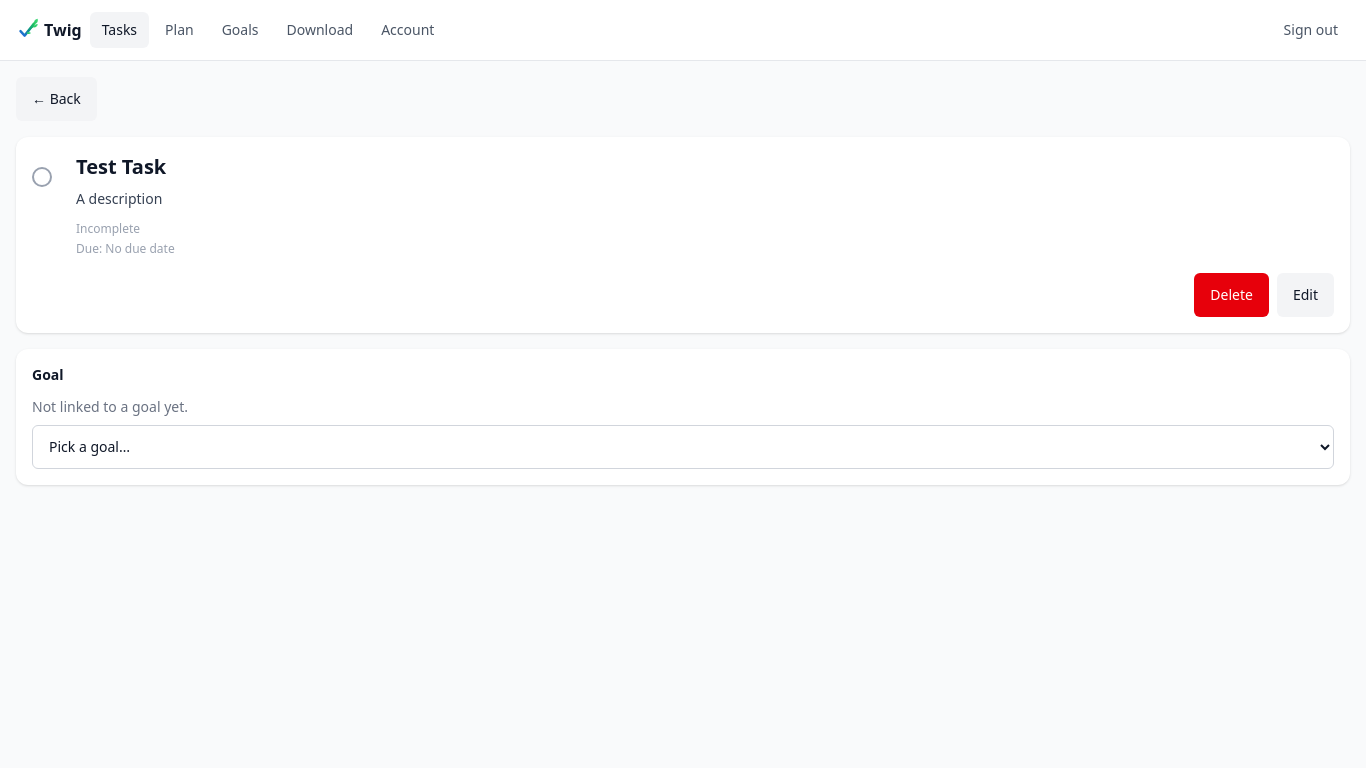
Scenario: TaskDetailPage — goal error mapping (US4) › other codes show the generic connectivity message
The width and height of the screenshot is (1366, 768).
Select "Ship it" in the dropdown named "goal" at (683, 446), box [32, 424, 1334, 468]
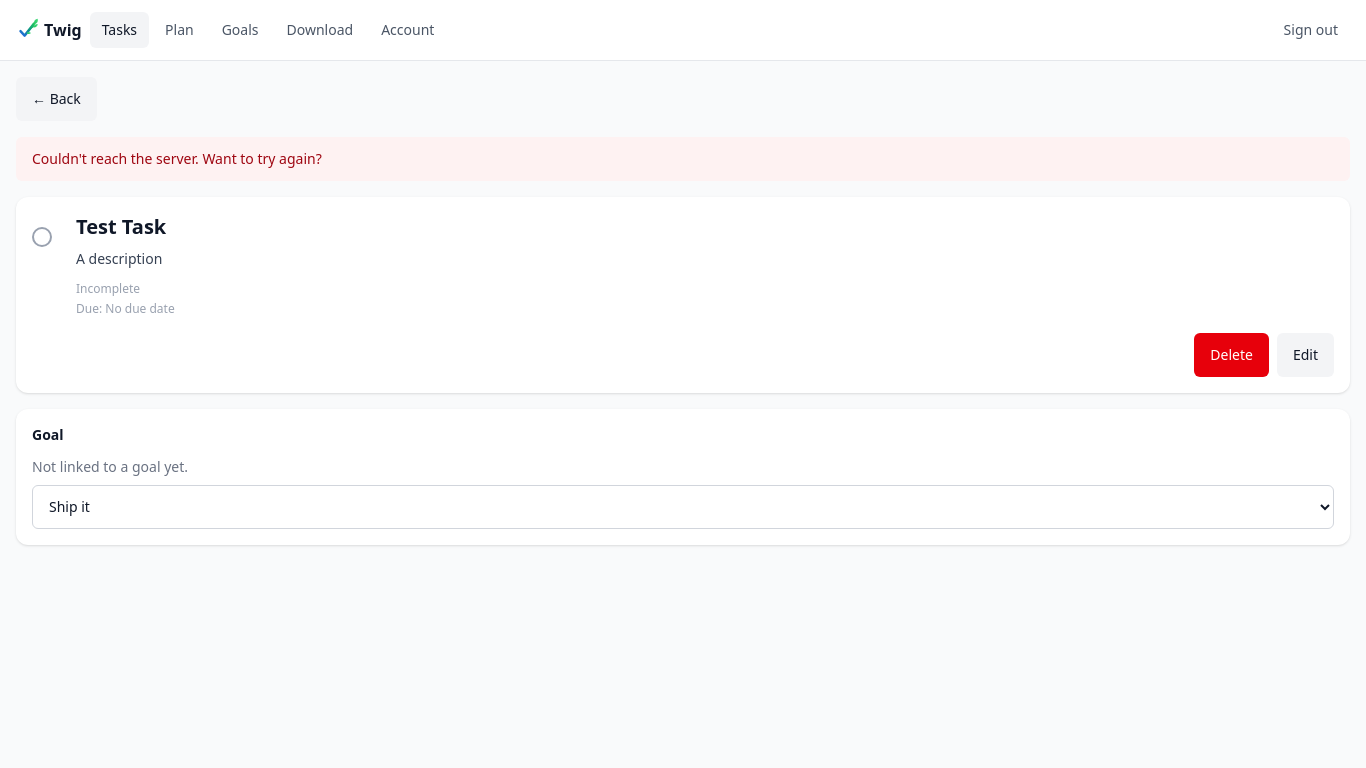
Expected: the text "Couldn't reach the server. Want to try again?" is shown, [32, 149, 322, 169]
